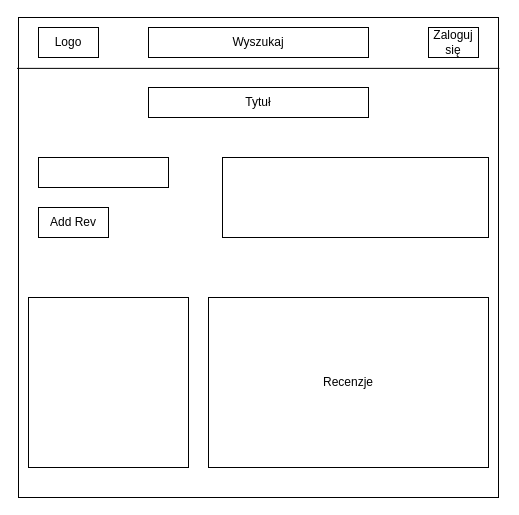
The diagram is 519 pixels wide and 515 high, and some of its shapes have lost their labels. Here are the shapes that lost their labels. From the top down, the centre of each, then its label:
the point at 103,172: Ocena
the point at 355,197: Opis Filmu
the point at 108,382: Celebryci
